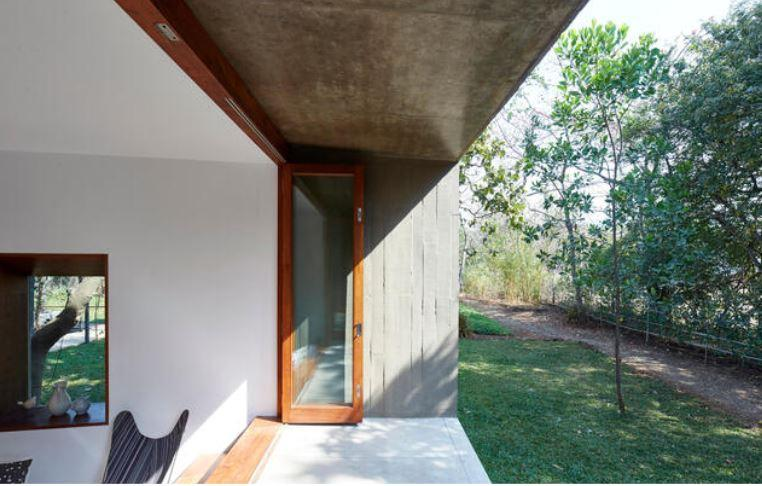door: (282, 161, 368, 424)
